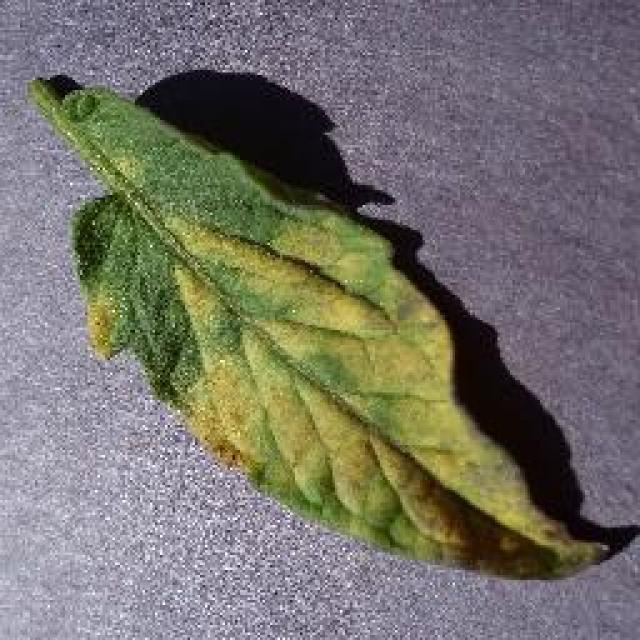leaf mold: (29, 80, 614, 583)
